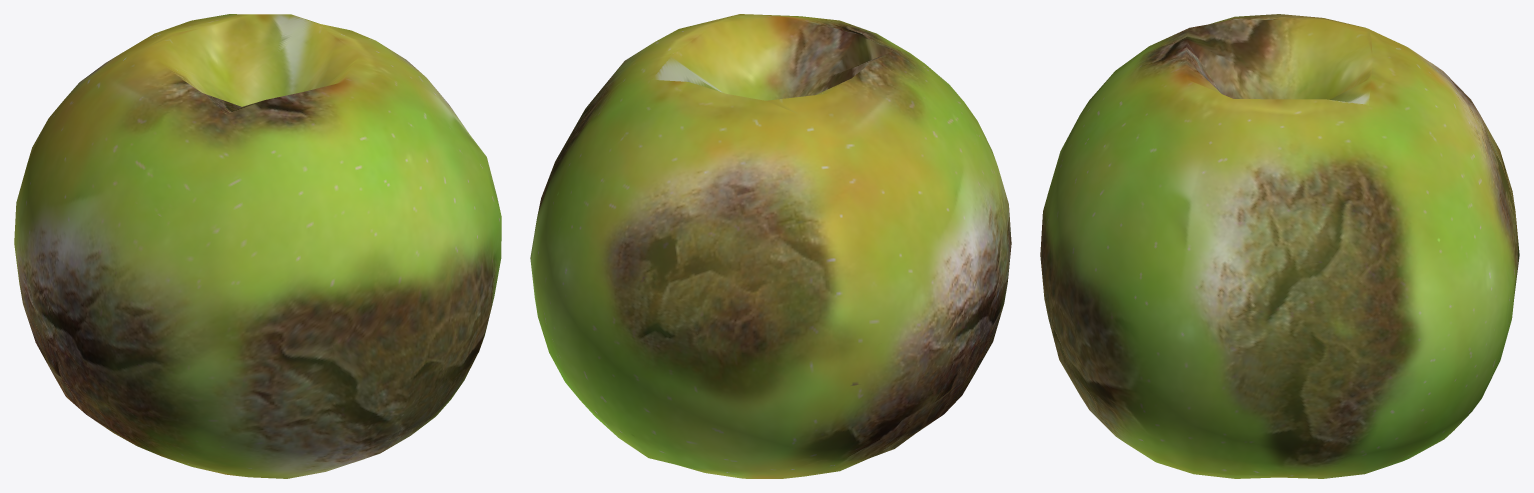
File: damaged-fruitlet.gltf
3 views of the same model, side by side, from view 1: azimuth 30°, elevation 25°; view 2: azimuth 150°, elevation 25°; view 3: azimuth 270°, elevation 25° (orthographic).
Visible parts, largest first — view 1: Fruit; view 2: Fruit; view 3: Fruit.
Boxes of the visible parts, bbox=[...] form: Fruit: bbox=[14, 14, 501, 478]; Fruit: bbox=[530, 14, 1011, 478]; Fruit: bbox=[1040, 14, 1519, 478].
Size of the model in its own units: 0.0927 by 0.0816 by 0.0925.
1 material, 1 textured.
